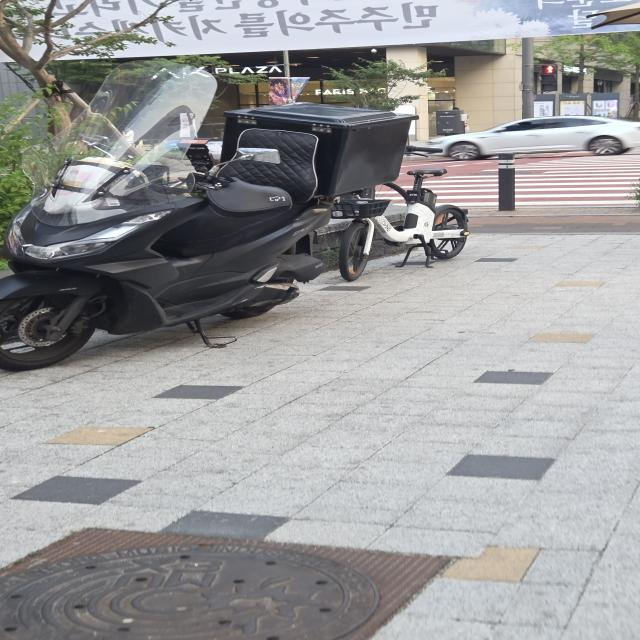motorcycle: (3, 49, 421, 372)
